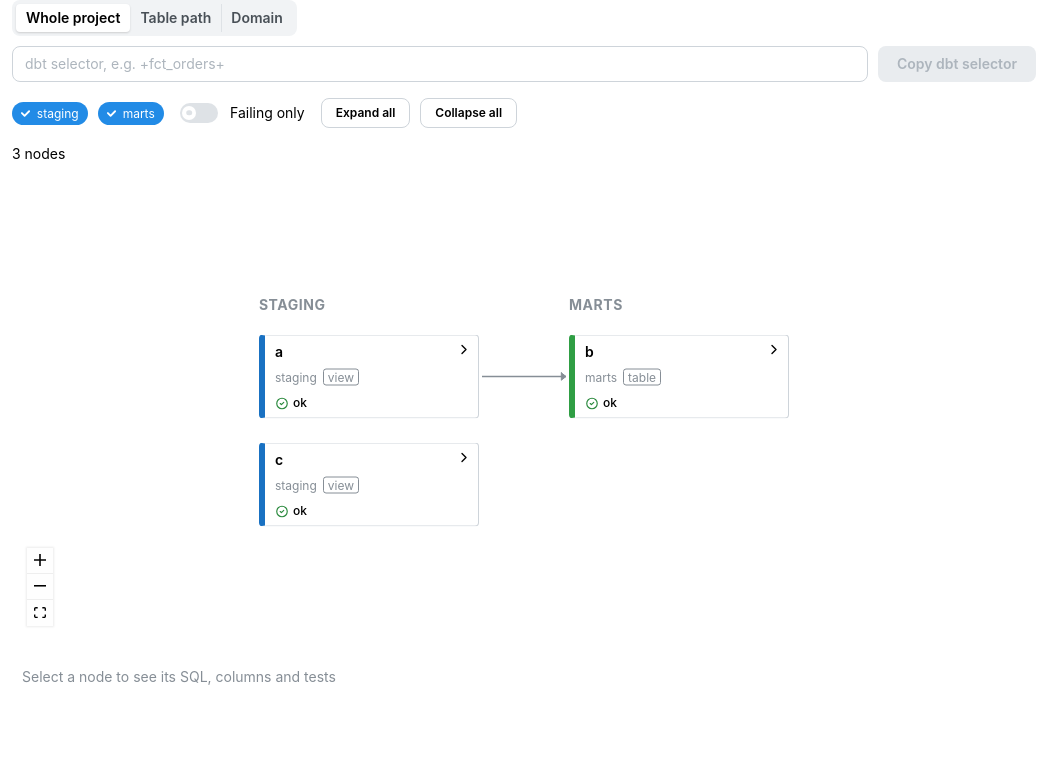
Test: LineageScreen › column lineage › unavailable column lineage disables expanding and says why
The width and height of the screenshot is (1048, 768).
expect the text "3 nodes" is shown: met, box x1=12 y1=145 x2=65 y2=162
Click the button "Expand all" at (366, 113), box x1=321 y1=98 x2=410 y2=128
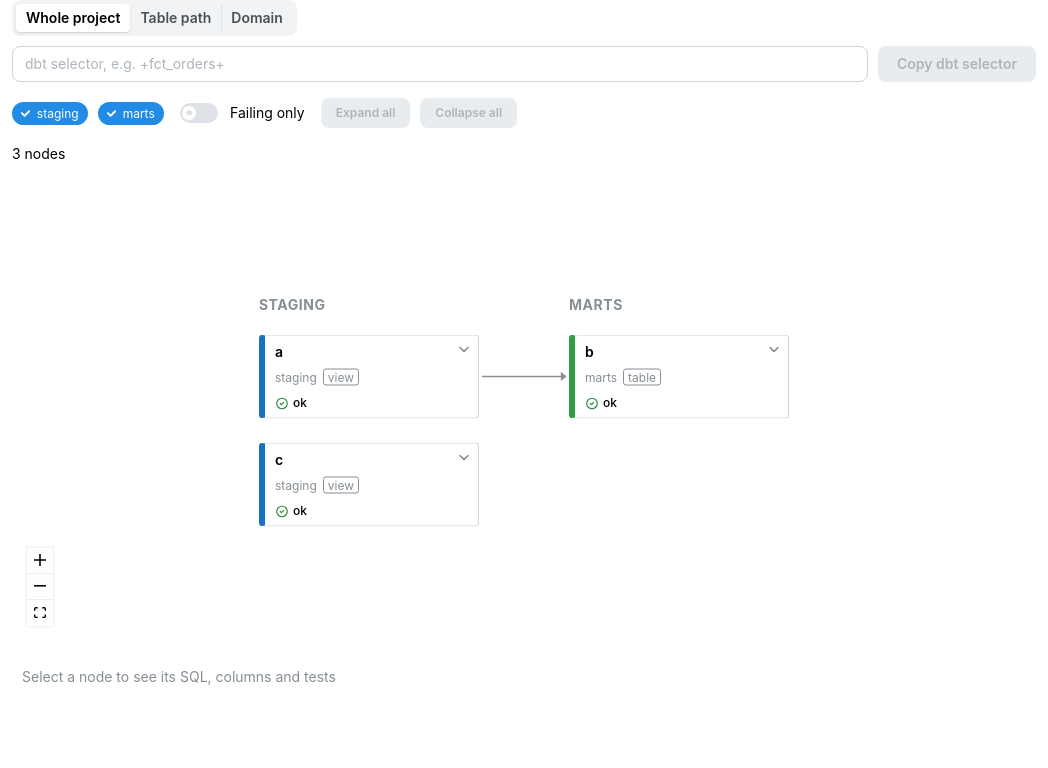
expect the button named "Columns of b" is disabled: met, box x1=764 y1=340 x2=784 y2=360
expect the button "Expand all" is disabled: met, box x1=321 y1=98 x2=410 y2=128
